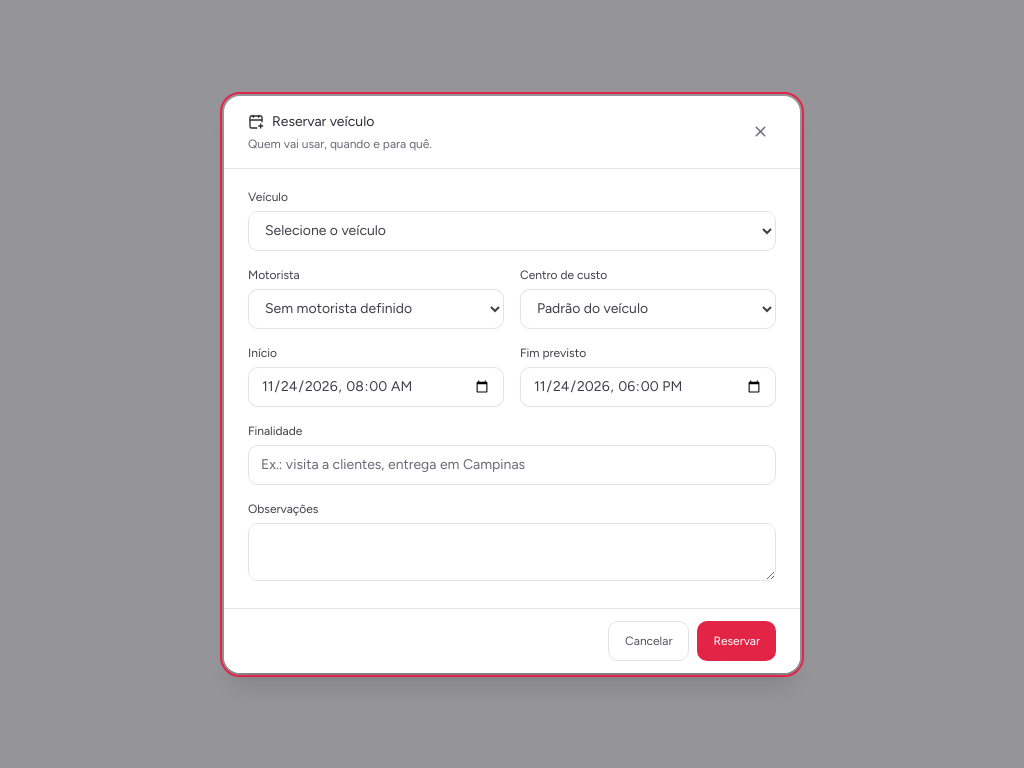
Rodapé fixo da reserva › o erro de envio aparece no rodapé, logo acima do botão
The image size is (1024, 768).
Click the button "Reservar": (737, 640) [698,620,776,660]
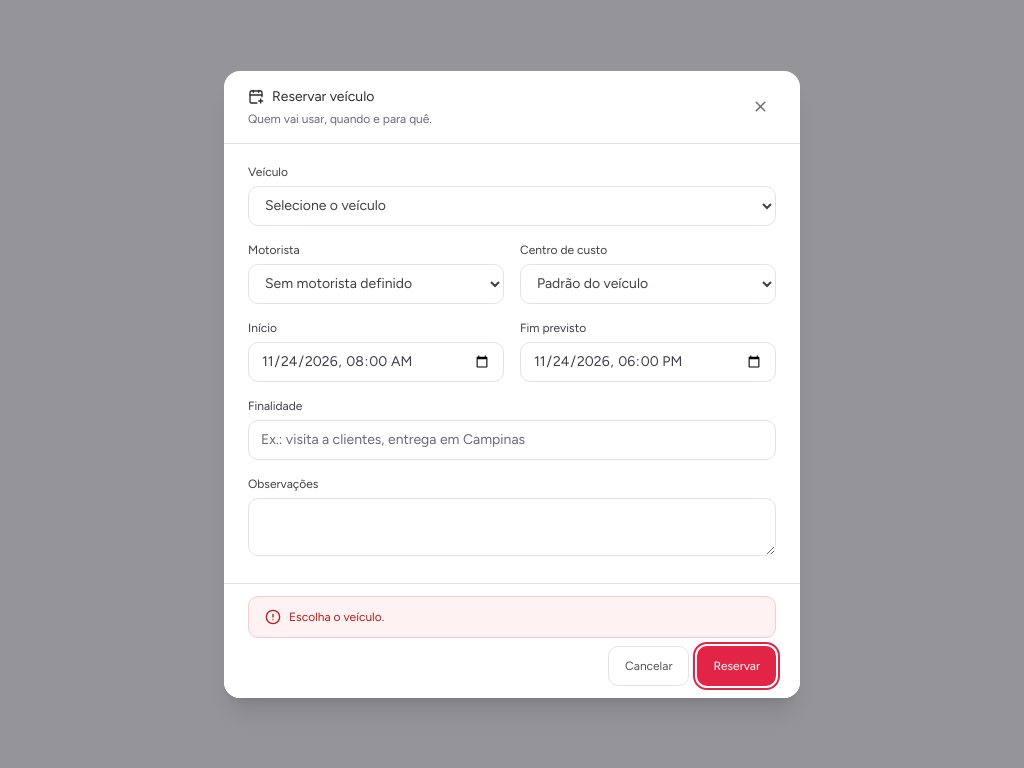
Now the message reads "Escolha o veículo.", box [289,610,384,624]
